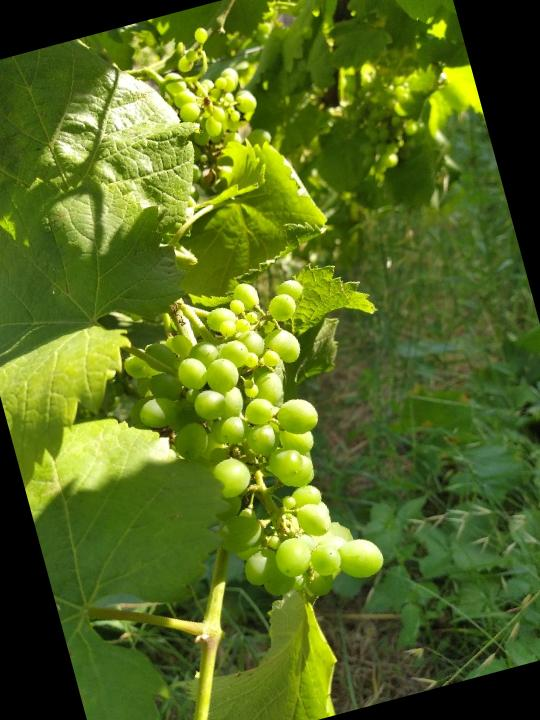grape: (107, 259, 394, 628)
